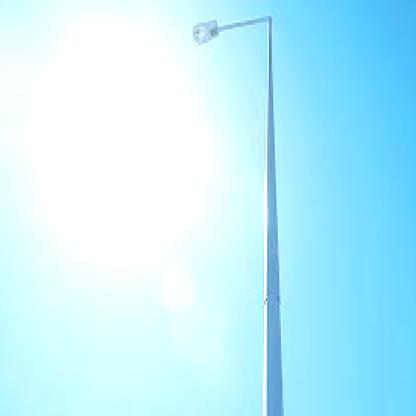light_pole: (191, 14, 284, 414)
